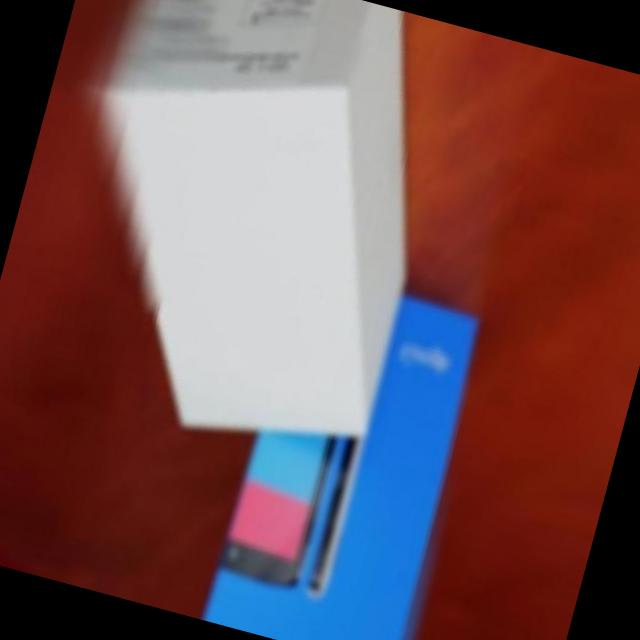box: (23, 0, 488, 477)
